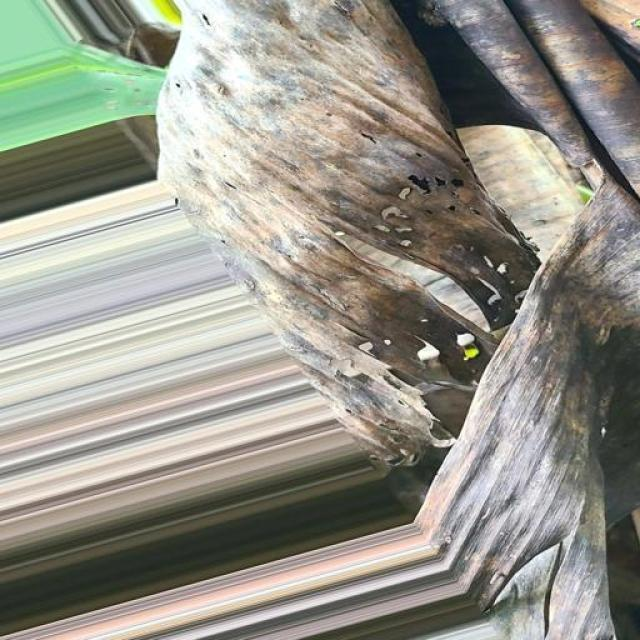Bract_mosaic_virus: (137, 1, 640, 640)
